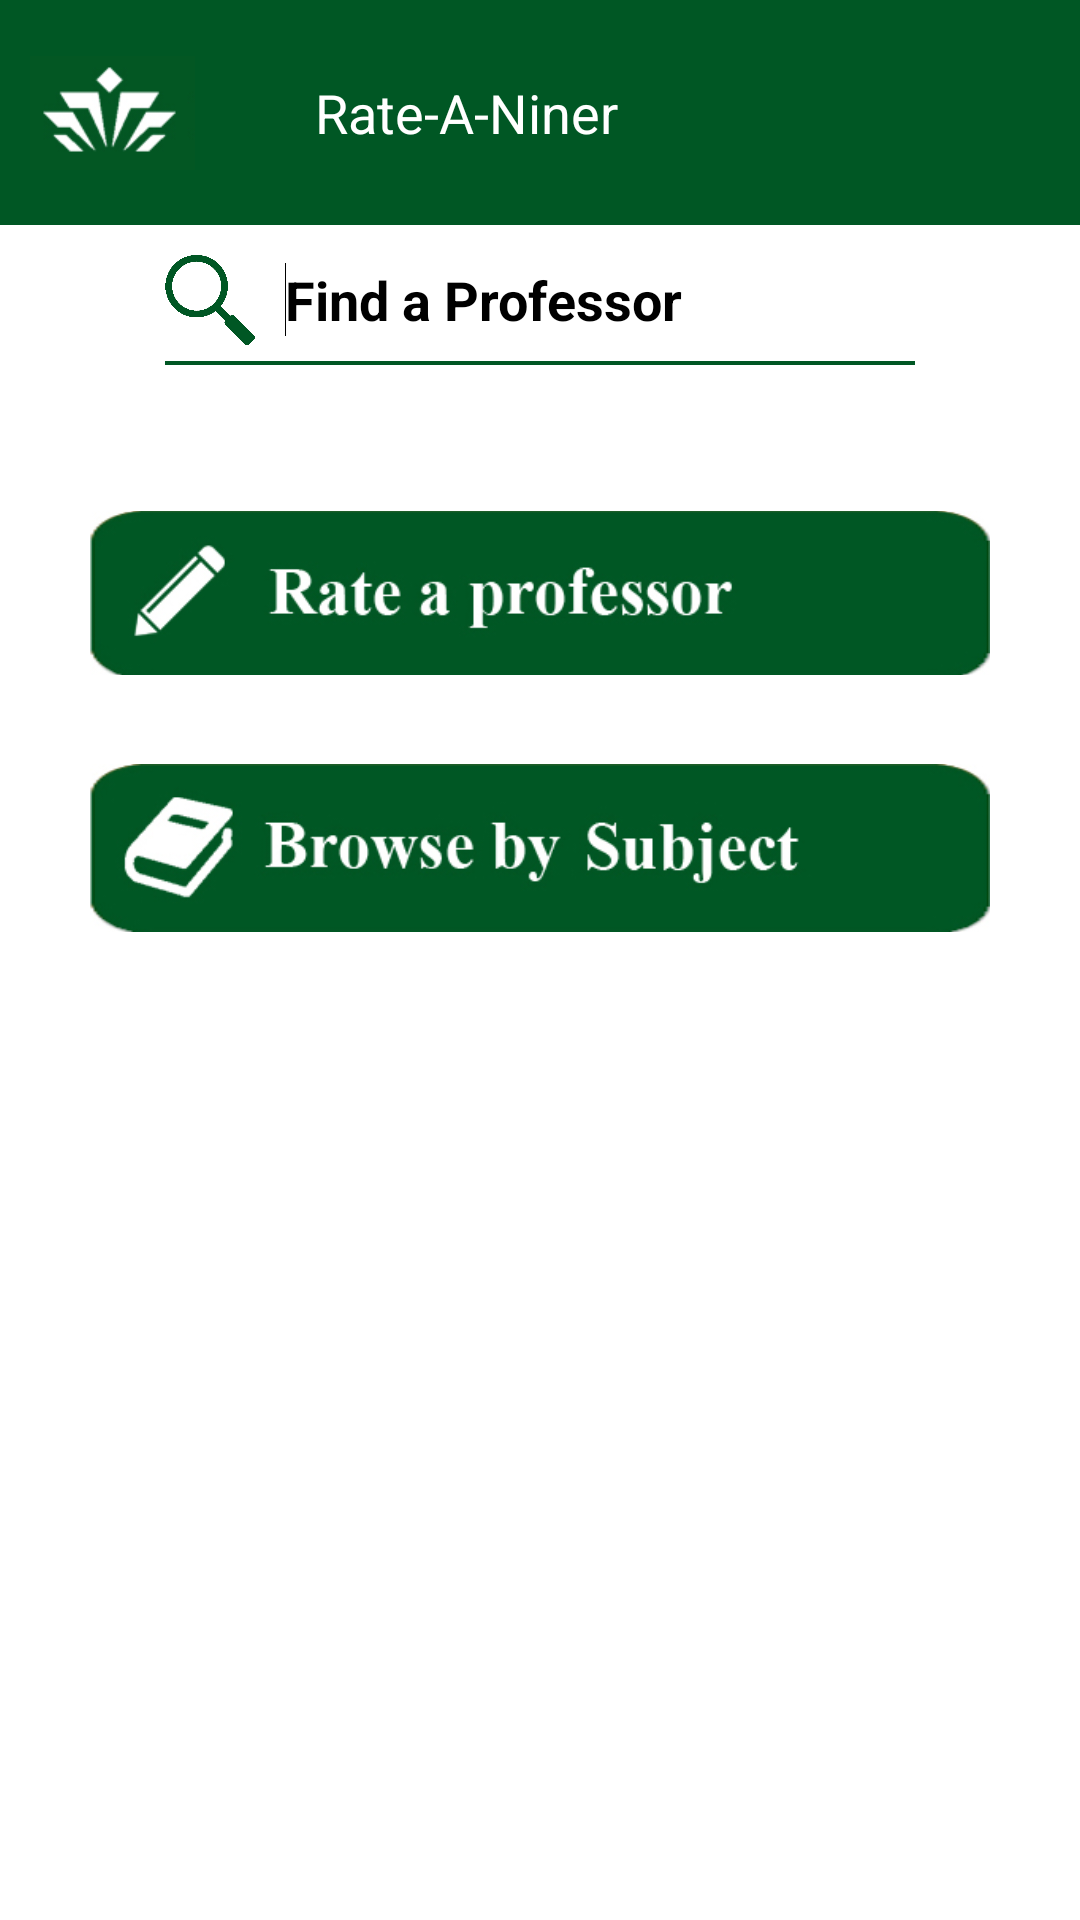

Icon bounding boxes for this 1080px×1920px phone screenshot, format {"left": x1, "top": y1, "right": x2, "bottom": y2}:
search: {"left": 165, "top": 255, "right": 255, "bottom": 345}
